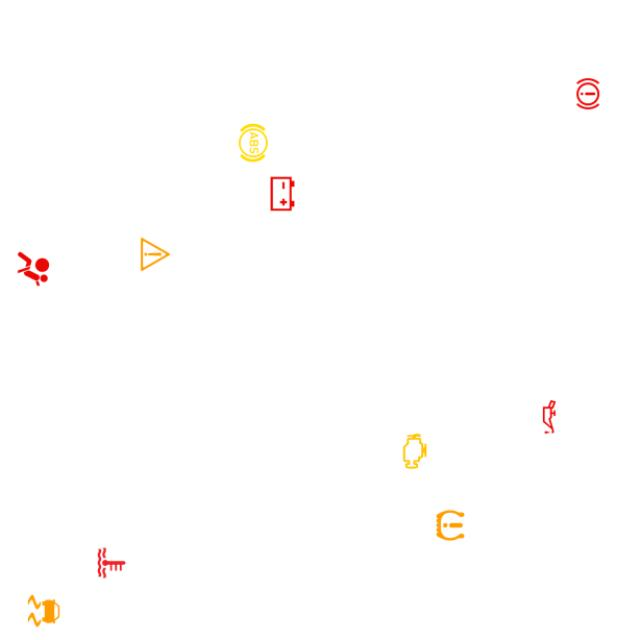Anti Lock Braking System: (233, 122, 274, 164)
Braking System Issue: (567, 73, 609, 115)
Charging System Issue: (262, 173, 303, 215)
Check Engine: (394, 431, 436, 472)
Electronic Stability Problem -ESP-: (23, 590, 65, 632)
Engine Overheating Warning Light: (91, 542, 132, 584)
Low Engine Oil Warning Light: (529, 396, 570, 438)
Low Tire Pressure Warning Light: (430, 505, 471, 546)
Master warning light: (135, 234, 176, 275)
SRS-Airbag: (13, 248, 54, 290)
